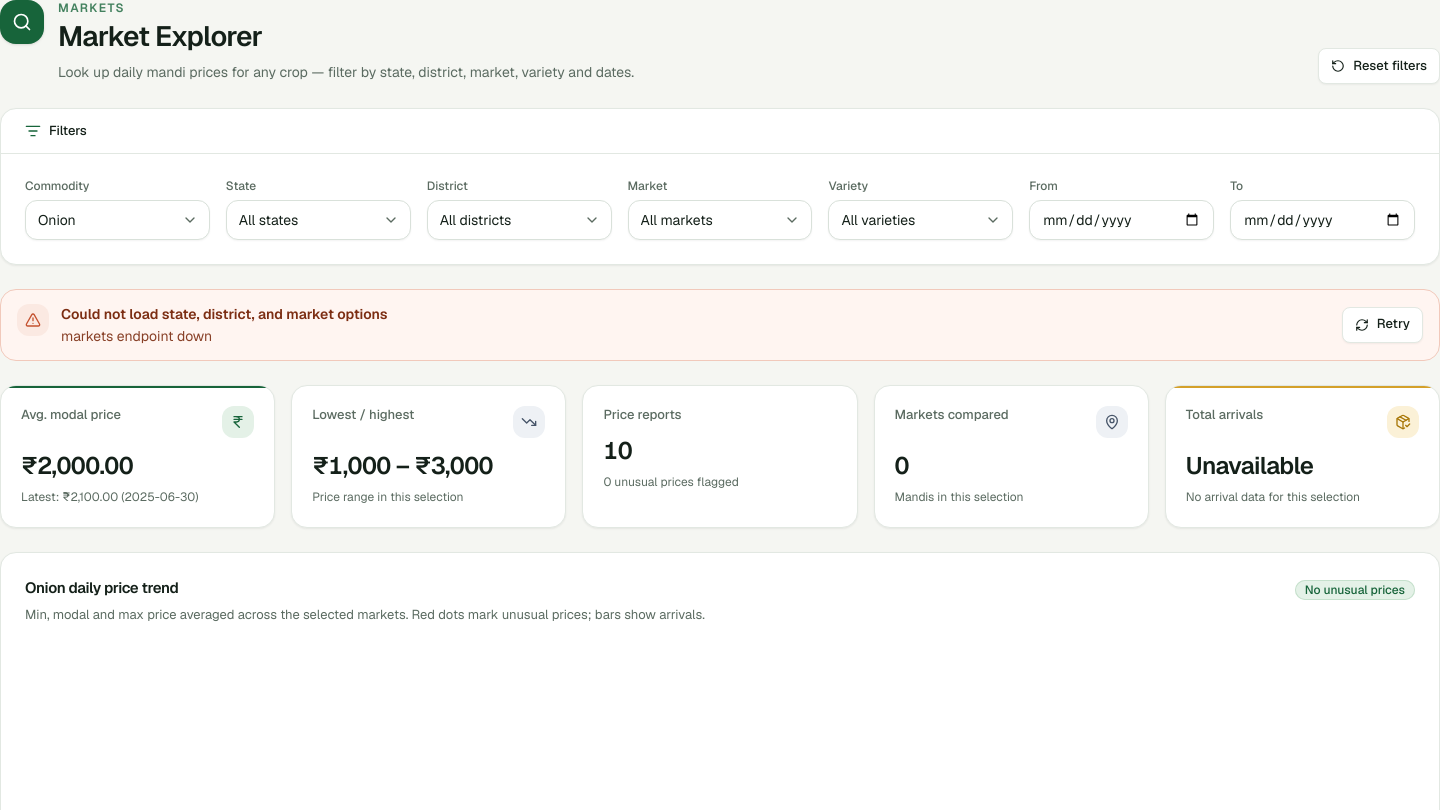
Test: Market Explorer requests, markets errors and refetch state › shows a visible, retryable error when market options fail to load
expect the text "Could not load state, district, and market options" is shown: met, box top-left (61, 304), bottom-right (388, 324)
expect the text "markets endpoint down" is shown: met, box top-left (61, 327), bottom-right (212, 345)
Click the button "Retry".
click(1382, 325)  # box top-left (1342, 307), bottom-right (1423, 343)
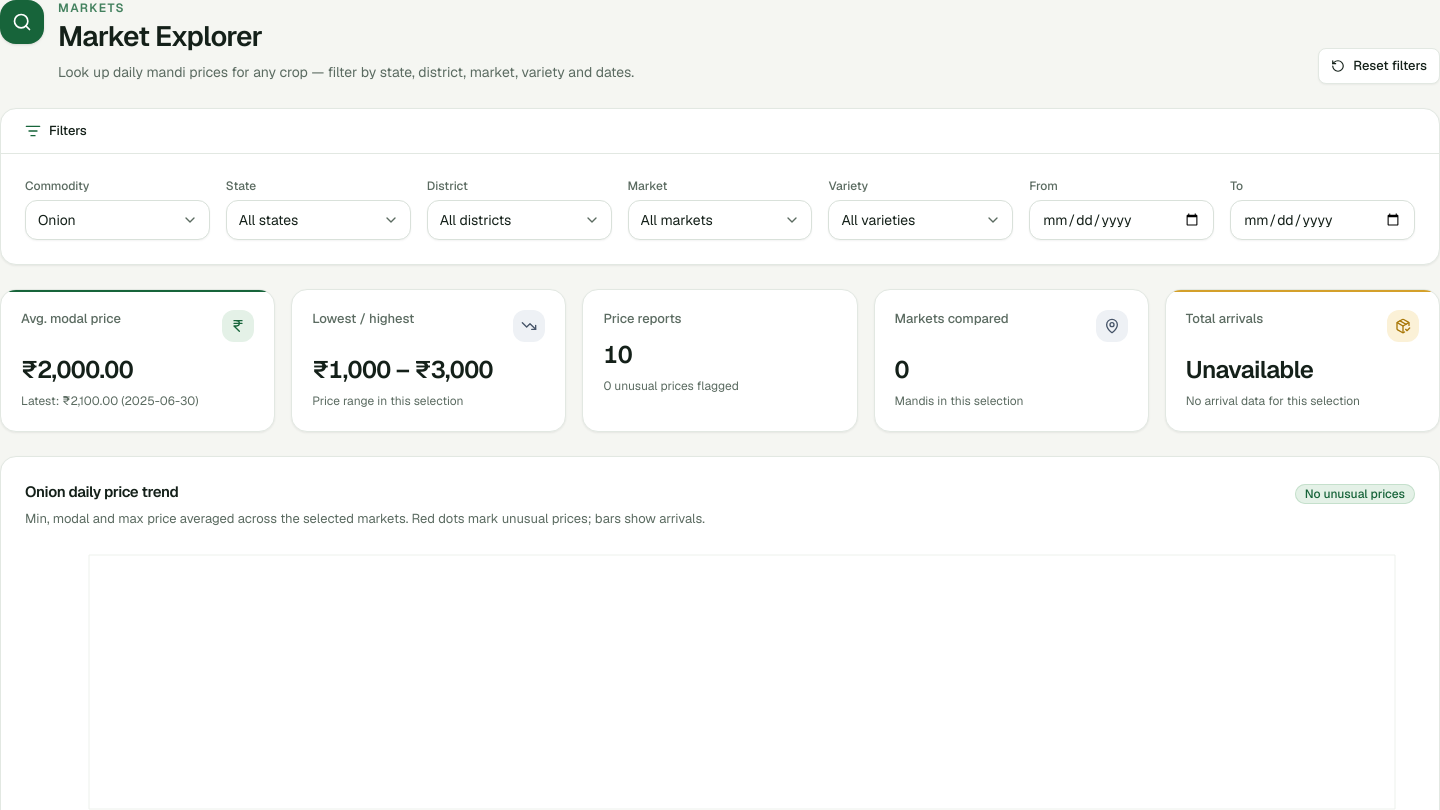
expect the text "Could not load state, district, and market options" is gone: met
